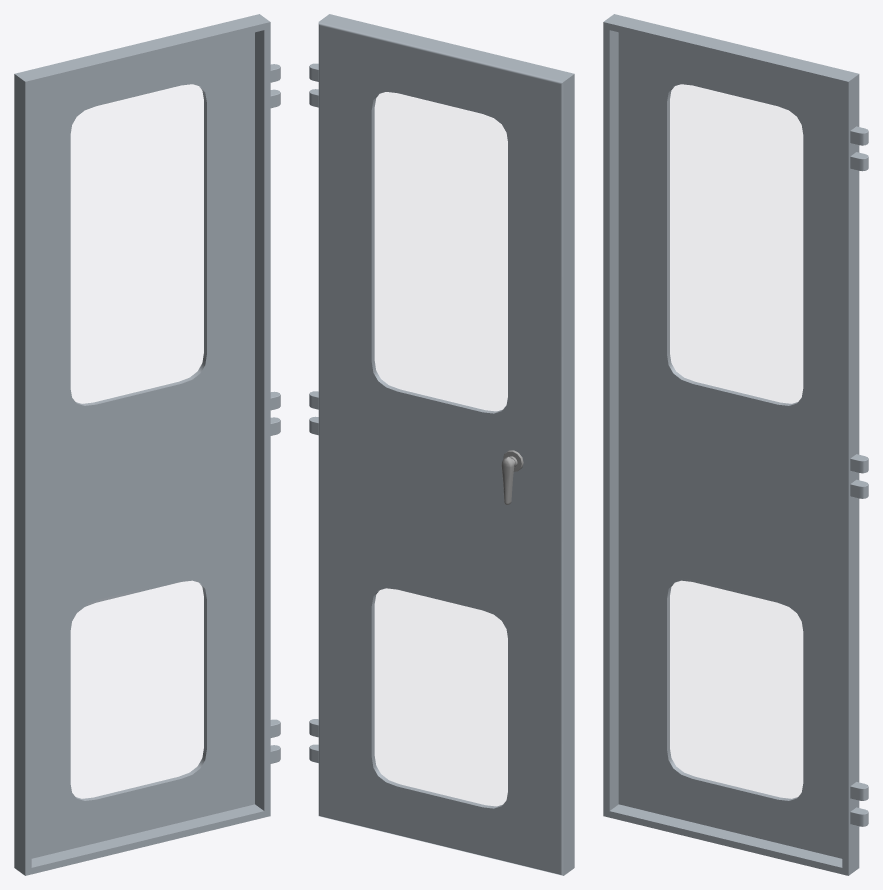
Rendered from TR_back_DOOR.fbx.
3 renders of one model, left to right at view 1: azimuth 30°, elevation 25°; view 2: azimuth 150°, elevation 25°; view 3: azimuth 330°, elevation 25°, orthographic.
Parts seen in each view (by area): view 1: tr_Box032; view 2: tr_Box032; view 3: tr_Box032.
Boxes of the visible parts, x1,y1,x2,y2 form: tr_Box032: (14,14,280,875); tr_Box032: (309,14,574,875); tr_Box032: (603,14,868,875).
Size of the model in its own units: 0.6334 by 1.85 by 0.0875.
2 materials, 1 textured.
